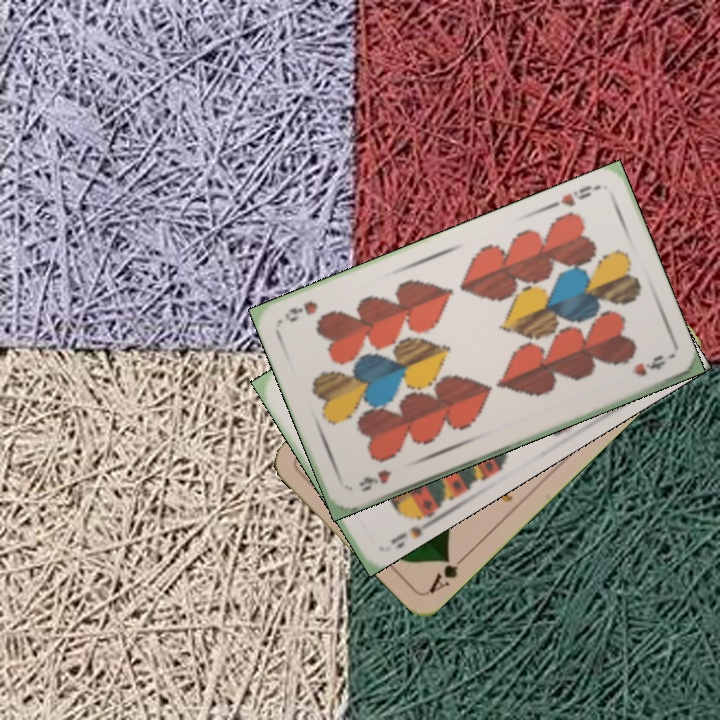GA: (425, 549, 472, 596)
H9: (546, 181, 594, 211), (355, 465, 394, 494)
S9: (386, 505, 432, 550)
